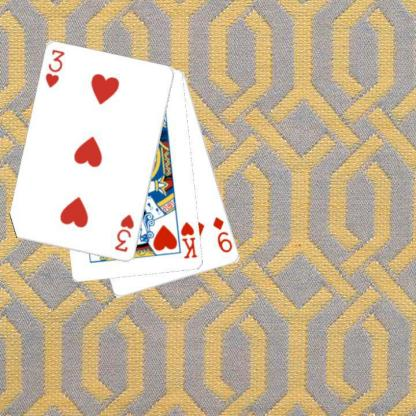3H: (112, 212, 135, 254), (43, 48, 66, 90)
9D: (210, 214, 234, 255)
KH: (178, 220, 198, 260)
